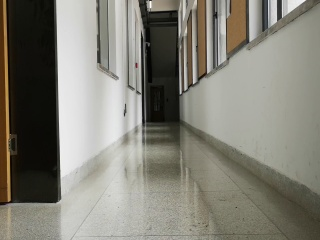room: (1, 3, 63, 205)
